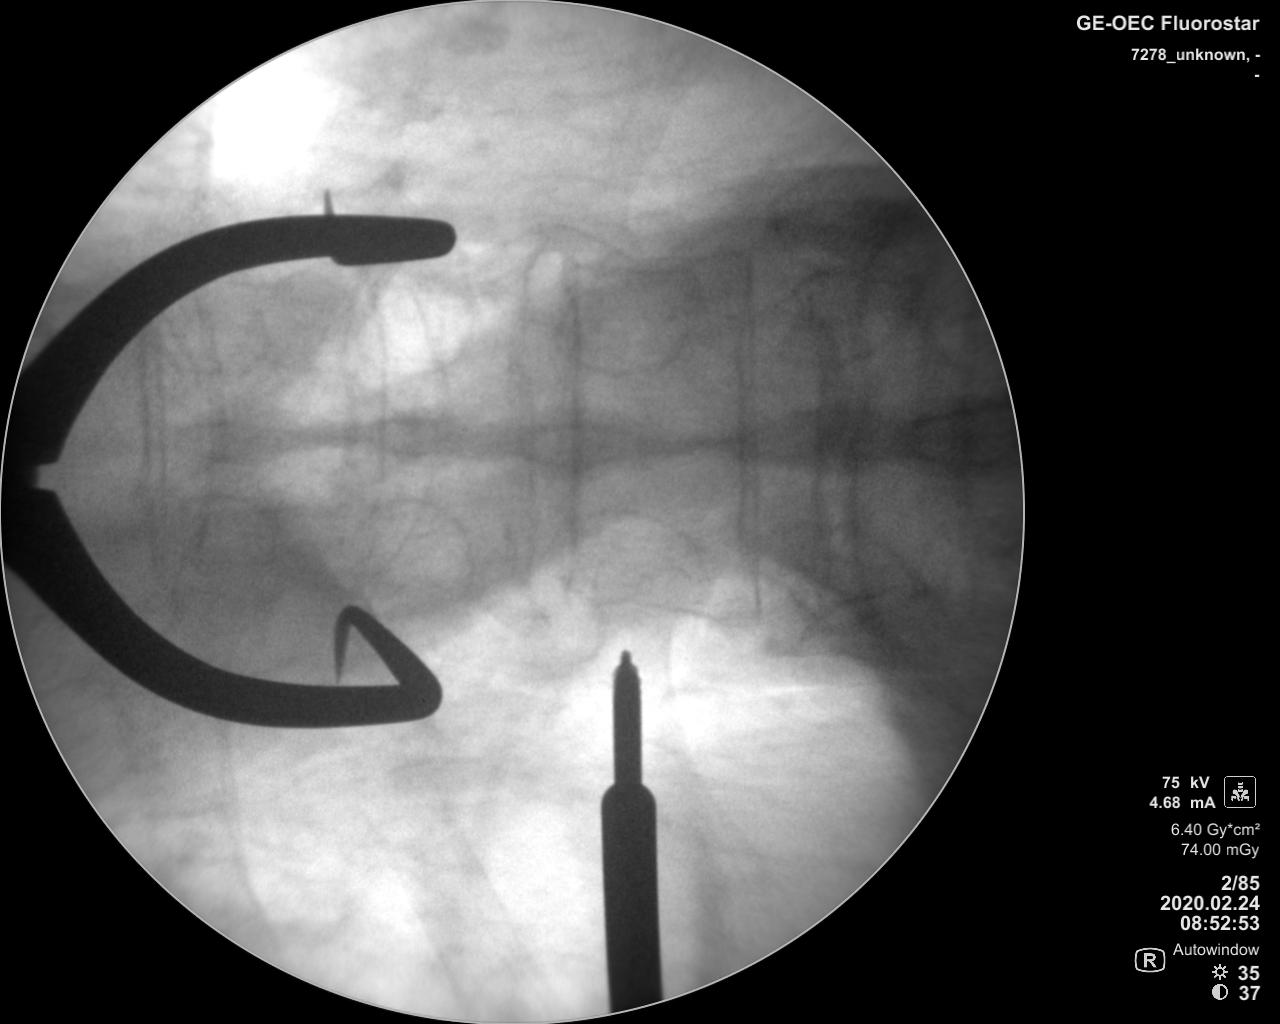eyes: (552, 262, 703, 369), (343, 269, 480, 369), (566, 509, 700, 610), (347, 495, 474, 598)
line: (722, 225, 774, 630), (551, 229, 591, 614), (126, 338, 162, 591)
nose: (709, 404, 897, 474), (502, 415, 703, 467), (326, 403, 473, 462), (166, 408, 304, 469), (904, 396, 1011, 472)
